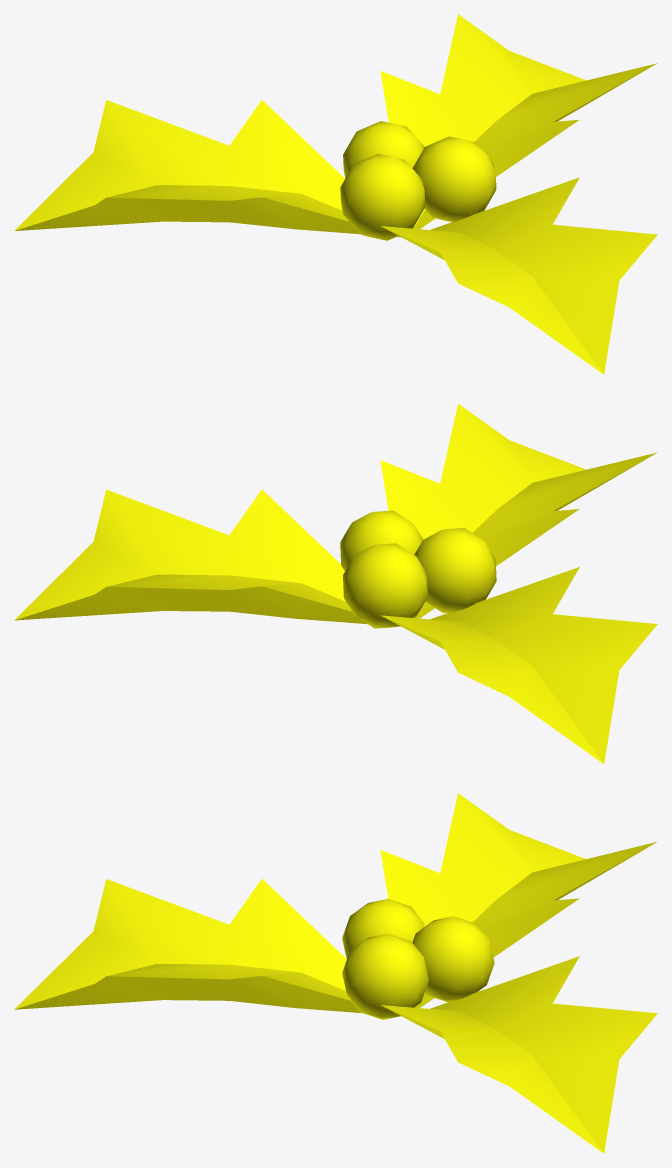
Rendered from kaykit-mistletoe-b.glb.
3 views of the same model, one above another, from view 1: azimuth 30°, elevation 25°; view 2: azimuth 150°, elevation 25°; view 3: azimuth 270°, elevation 25° (orthographic).
Parts seen in each view (by area): view 1: mistletoe_B; view 2: mistletoe_B; view 3: mistletoe_B.
Part boxes in pixels (bbox=[...]): mistletoe_B: bbox=[14, 14, 657, 374]; mistletoe_B: bbox=[14, 403, 657, 763]; mistletoe_B: bbox=[14, 793, 657, 1153].
Size of the model in its own units: 0.9934 by 0.1539 by 0.9388.
